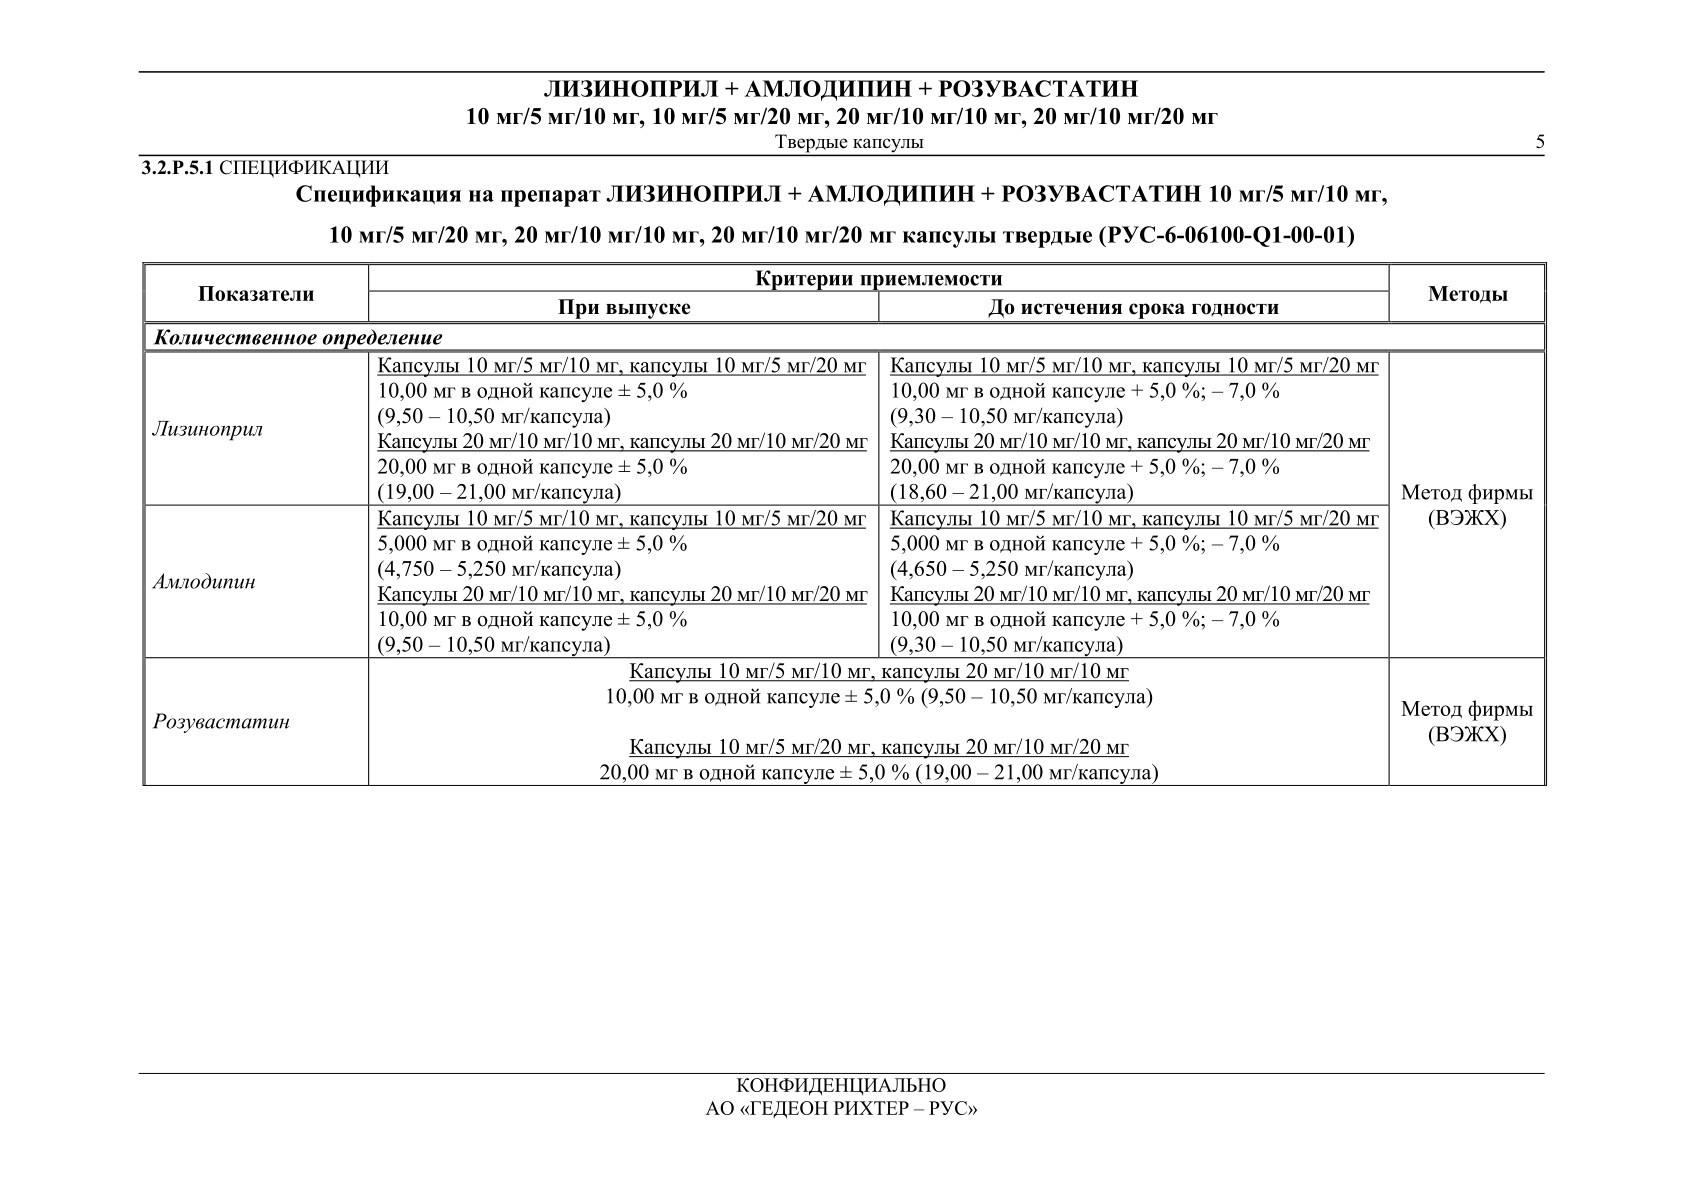merged_cells: (140, 260, 1547, 788)
